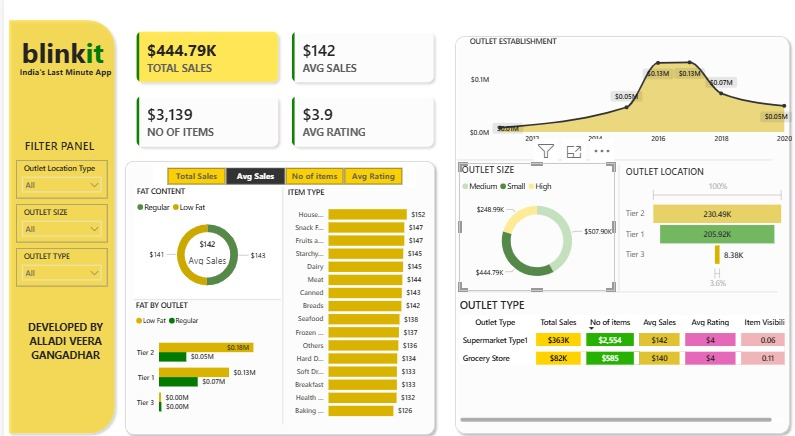

Layout of this report page (visuals, bound fields, positions):
{"tool":"powerbi","page":{"name":"Page 1","canvas":[1400,800],"ordinal":0},"visuals":[{"type":"shape","box":[0,37.3,205,750],"z":0},{"type":"textbox","box":[26.5,65.5,203.5,81.4],"z":1000},{"type":"textbox","box":[12.1,122.7,193.1,48.3],"z":2000},{"type":"cardVisual","fields":{"Data":["BlinkIT Grocery Data.Total Sales","BlinkIT Grocery Data.Avg Sales","BlinkIT Grocery Data.No of items","BlinkIT Grocery Data.Avg Rating"]},"box":[205.3,37.2,584.1,263.7],"z":3000},{"type":"shape","box":[206,286,566,502],"z":4000},{"type":"donutChart","title":"FAT CONTENT","fields":{"Y":["BlinkIT Grocery Data.Total Sales"],"Category":["BlinkIT Grocery Data.Item Fat Content"]},"box":[230,340,260,198],"z":5000},{"type":"slicer","fields":{"Values":["Metrics.Metrics"]},"box":[263.7,300.9,465.5,40.7],"z":6000},{"type":"card","fields":{"Values":["BlinkIT Grocery Data.Total Sales"]},"box":[316,428,86,56],"z":7000},{"type":"clusteredBarChart","title":"FAT BY OUTLET","fields":{"Y":["BlinkIT Grocery Data.Total Sales"],"Category":["BlinkIT Grocery Data.Outlet Location Type"],"Series":["BlinkIT Grocery Data.Item Fat Content"]},"box":[228.3,541.7,260,221.7],"z":8000},{"type":"shape","box":[230,528.3,260,23.3],"z":9000},{"type":"shape","box":[490,341.7,6.7,420],"z":10000},{"type":"barChart","title":"ITEM TYPE","fields":{"Y":["BlinkIT Grocery Data.Total Sales"],"Category":["BlinkIT Grocery Data.Item Type"]},"box":[496.7,341.7,255,420],"z":11000},{"type":"shape","box":[790,66,610,722],"z":12000},{"type":"lineChart","title":"OUTLET ESTABLISHMENT","fields":{"Y":["BlinkIT Grocery Data.Total Sales"],"Category":["BlinkIT Grocery Data.Outlet Establishment Year"]},"box":[806,86,580,200],"z":13000},{"type":"shape","box":[802,286,558,14],"z":14000},{"type":"donutChart","title":"OUTLET SIZE","fields":{"Y":["BlinkIT Grocery Data.Total Sales"],"Category":["BlinkIT Grocery Data.Outlet Size"]},"box":[806,300,276,226],"z":15000},{"type":"shape","box":[1082,302,14,224],"z":16000},{"type":"funnel","title":"OUTLET LOCATION","fields":{"Y":["Sum(BlinkIT Grocery Data.Sales)"],"Category":["BlinkIT Grocery Data.Outlet Location Type"]},"box":[1096,302,290,224],"z":17000},{"type":"shape","box":[810,484,558,88],"z":18000},{"type":"pivotTable","title":"OUTLET TYPE","fields":{"Values":["BlinkIT Grocery Data.Total Sales","BlinkIT Grocery Data.No of items","BlinkIT Grocery Data.Avg Sales","BlinkIT Grocery Data.Avg Rating","Avg(BlinkIT Grocery Data.Item Visibility)"],"Rows":["BlinkIT Grocery Data.Outlet Type"]},"box":[802.5,537.5,585,225],"z":19000},{"type":"slicer","fields":{"Values":["BlinkIT Grocery Data.Outlet Location Type"]},"box":[21.1,293.3,162.2,67.8],"z":20000},{"type":"slicer","fields":{"Values":["BlinkIT Grocery Data.Outlet Size"]},"box":[21.1,371.1,162.2,67.8],"z":21000},{"type":"slicer","fields":{"Values":["BlinkIT Grocery Data.Outlet Type"]},"box":[21.1,450,162.2,67.8],"z":22000},{"type":"textbox","title":"FILTER PANEL","box":[26.7,255,143.3,38.3],"z":22001},{"type":"image","box":[58.3,536.7,70,46.7],"z":22002},{"type":"image","box":[68.3,613.3,50,50],"z":22003},{"type":"textbox","box":[11.7,693.3,193.3,80],"z":22004}]}

Visuals, with their boxes on the page's 1400x800 design canvas (x1, y1, x2, y2). These are canvas units, not pixel positions in the 795x436 screenshot, which may show the page scaled, cropped or inside an application window:
shape: <region>0, 37, 205, 787</region>
textbox: <region>26, 66, 230, 147</region>
textbox: <region>12, 123, 205, 171</region>
cardVisual - BlinkIT Grocery Data.Total Sales x BlinkIT Grocery Data.Avg Sales: <region>205, 37, 789, 301</region>
shape: <region>206, 286, 772, 788</region>
"FAT CONTENT" donutChart: <region>230, 340, 490, 538</region>
slicer - Metrics.Metrics: <region>264, 301, 729, 342</region>
card - BlinkIT Grocery Data.Total Sales: <region>316, 428, 402, 484</region>
"FAT BY OUTLET" clusteredBarChart: <region>228, 542, 488, 763</region>
shape: <region>230, 528, 490, 552</region>
shape: <region>490, 342, 497, 762</region>
"ITEM TYPE" barChart: <region>497, 342, 752, 762</region>
shape: <region>790, 66, 1400, 788</region>
"OUTLET ESTABLISHMENT" lineChart: <region>806, 86, 1386, 286</region>
shape: <region>802, 286, 1360, 300</region>
"OUTLET SIZE" donutChart: <region>806, 300, 1082, 526</region>
shape: <region>1082, 302, 1096, 526</region>
"OUTLET LOCATION" funnel: <region>1096, 302, 1386, 526</region>
shape: <region>810, 484, 1368, 572</region>
"OUTLET TYPE" pivotTable: <region>802, 538, 1388, 762</region>
slicer - BlinkIT Grocery Data.Outlet Location Type: <region>21, 293, 183, 361</region>
slicer - BlinkIT Grocery Data.Outlet Size: <region>21, 371, 183, 439</region>
slicer - BlinkIT Grocery Data.Outlet Type: <region>21, 450, 183, 518</region>
"FILTER PANEL" textbox: <region>27, 255, 170, 293</region>
image: <region>58, 537, 128, 583</region>
image: <region>68, 613, 118, 663</region>
textbox: <region>12, 693, 205, 773</region>
